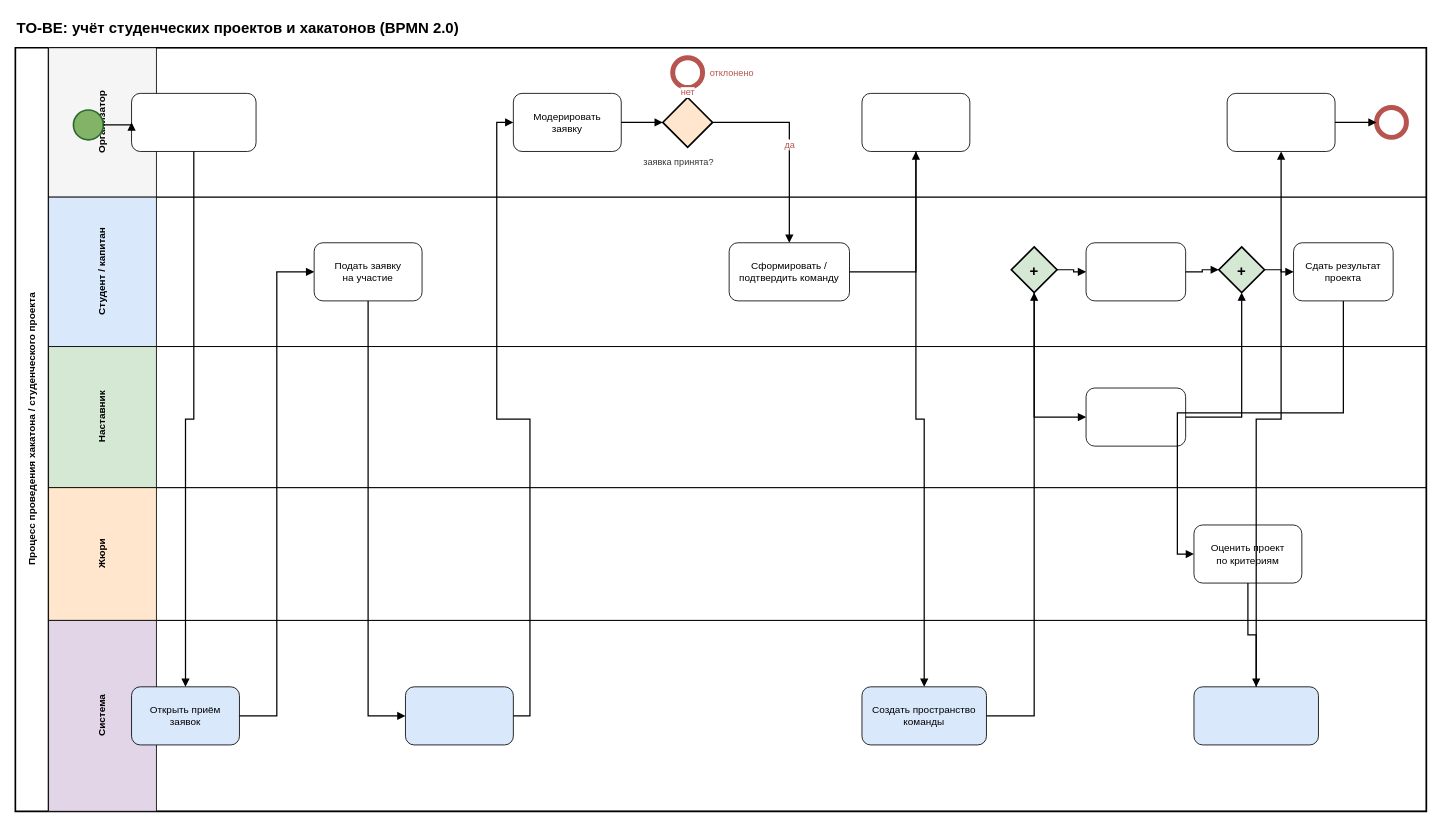
This 1441x826 diagram has some shape labels left out. The centre of each missing label's shape, as x and y in pixels:
"Вести задачи проекта" goes at point (1135, 271).
"Зарегистрировать заявку" goes at point (459, 715).
"Контролировать прогресс" goes at point (1135, 416).
"Назначить наставника" goes at point (915, 122).
"Опубликовать результаты" goes at point (1280, 122).
"Посчитать итог и обновить портфолио" goes at point (1255, 715).
"Создать и опубликовать мероприятие" goes at point (193, 122).
